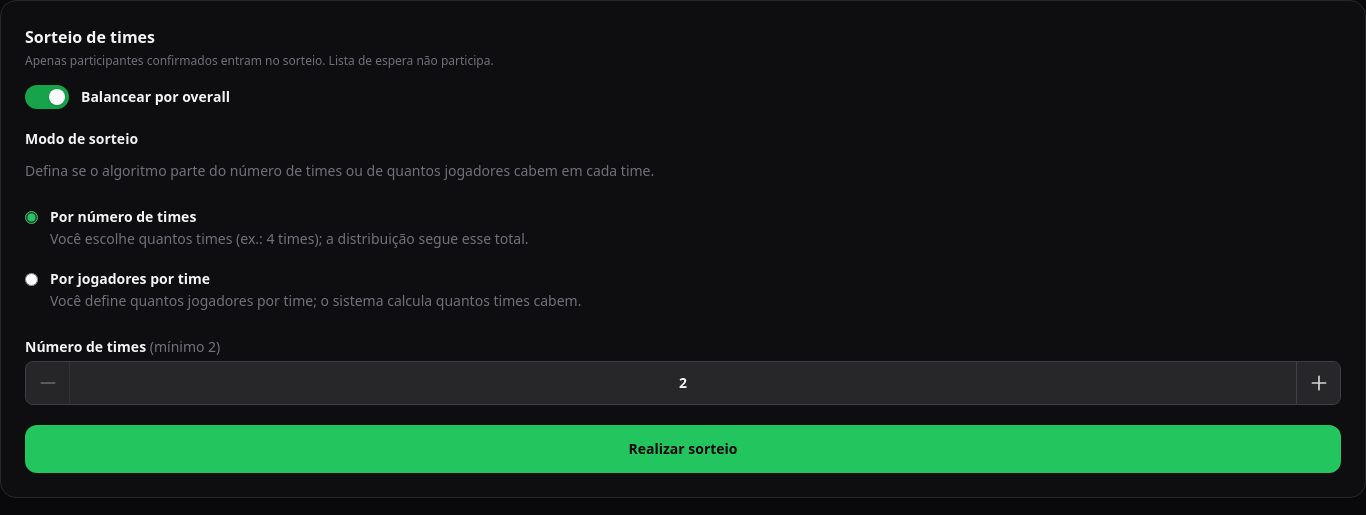
Test case: TeamDrawSection › POST sucesso renderiza os times
Click the button "Realizar sorteio". click: [683, 449]
box: [25, 425, 1341, 473]
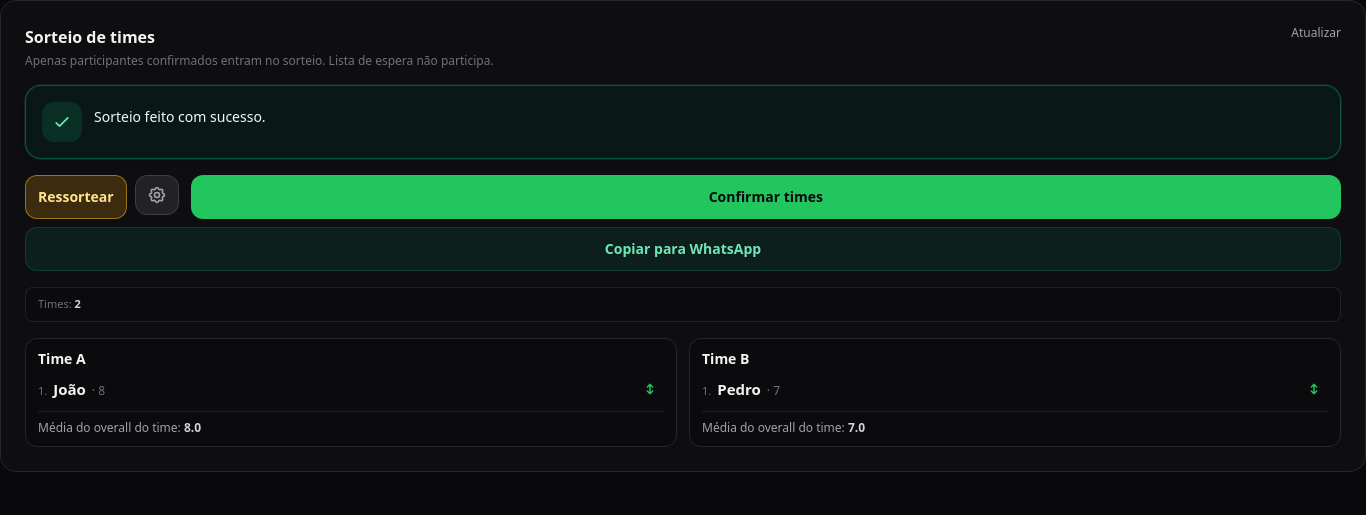
Now the heading "Time A" is shown, box [38, 348, 86, 368]
Now the text "João" is shown, box [53, 378, 86, 398]
Now the heading "Time B" is shown, box [702, 348, 750, 368]
